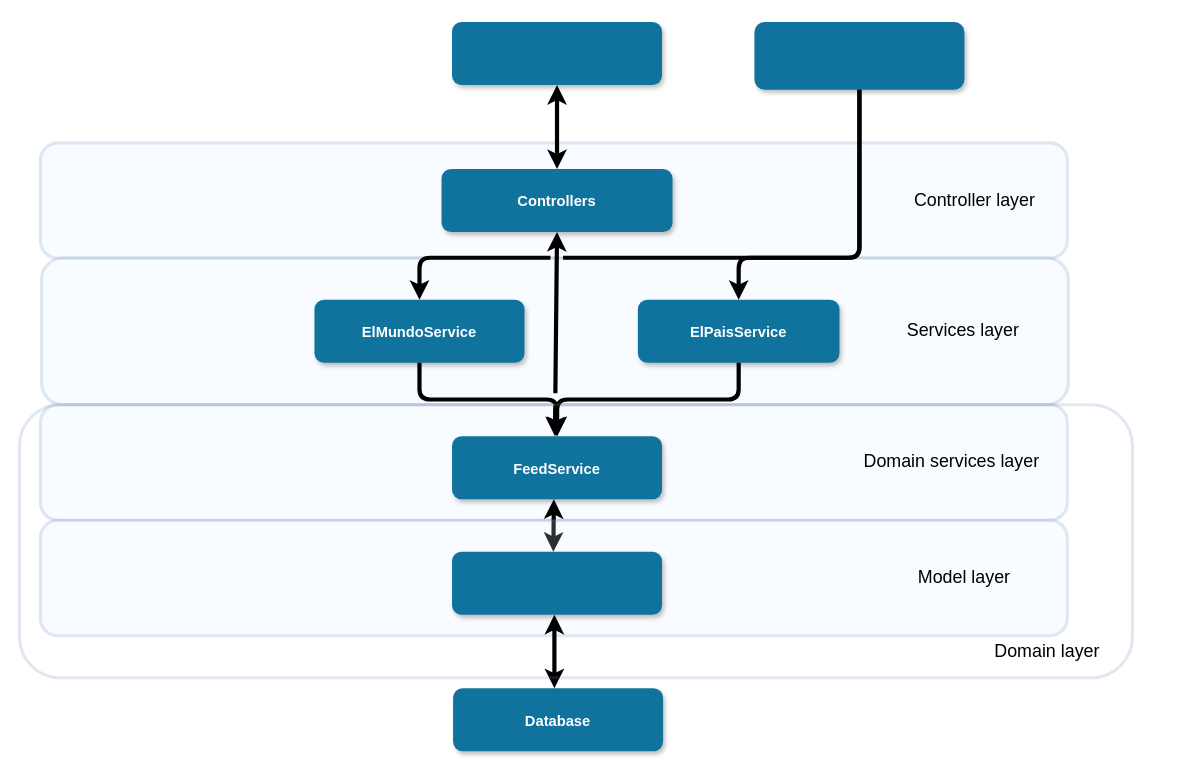
This 1191x783 diagram has some shape labels left out. Each missing label, with the centre of its shape:
"Client request" belongs at point (557, 54).
"Cron" belongs at point (860, 57).
"Feed model" belongs at point (557, 584).
